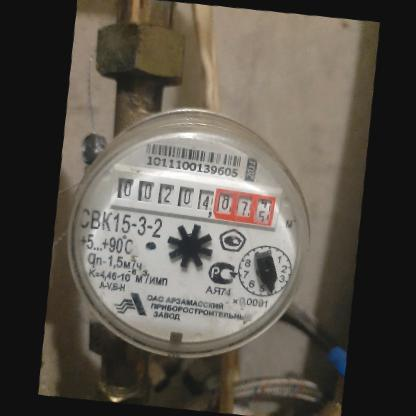digital_screen: (105, 159, 216, 218)
